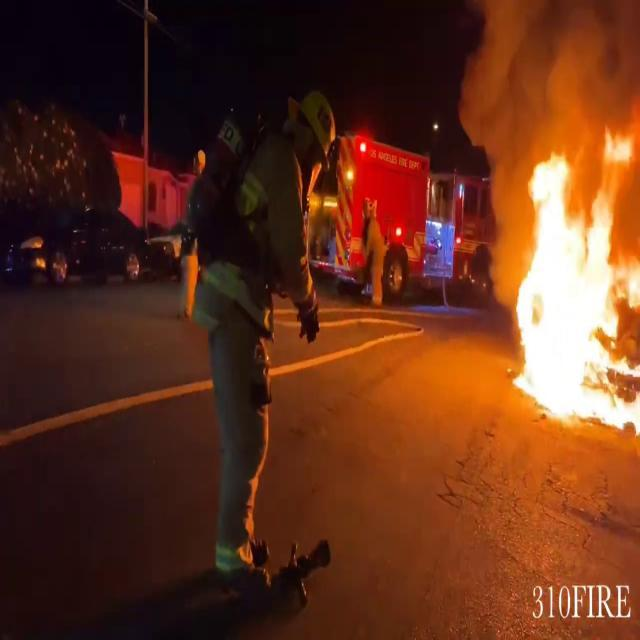Fire: (506, 116, 640, 440)
Smoke: (456, 1, 640, 192)
